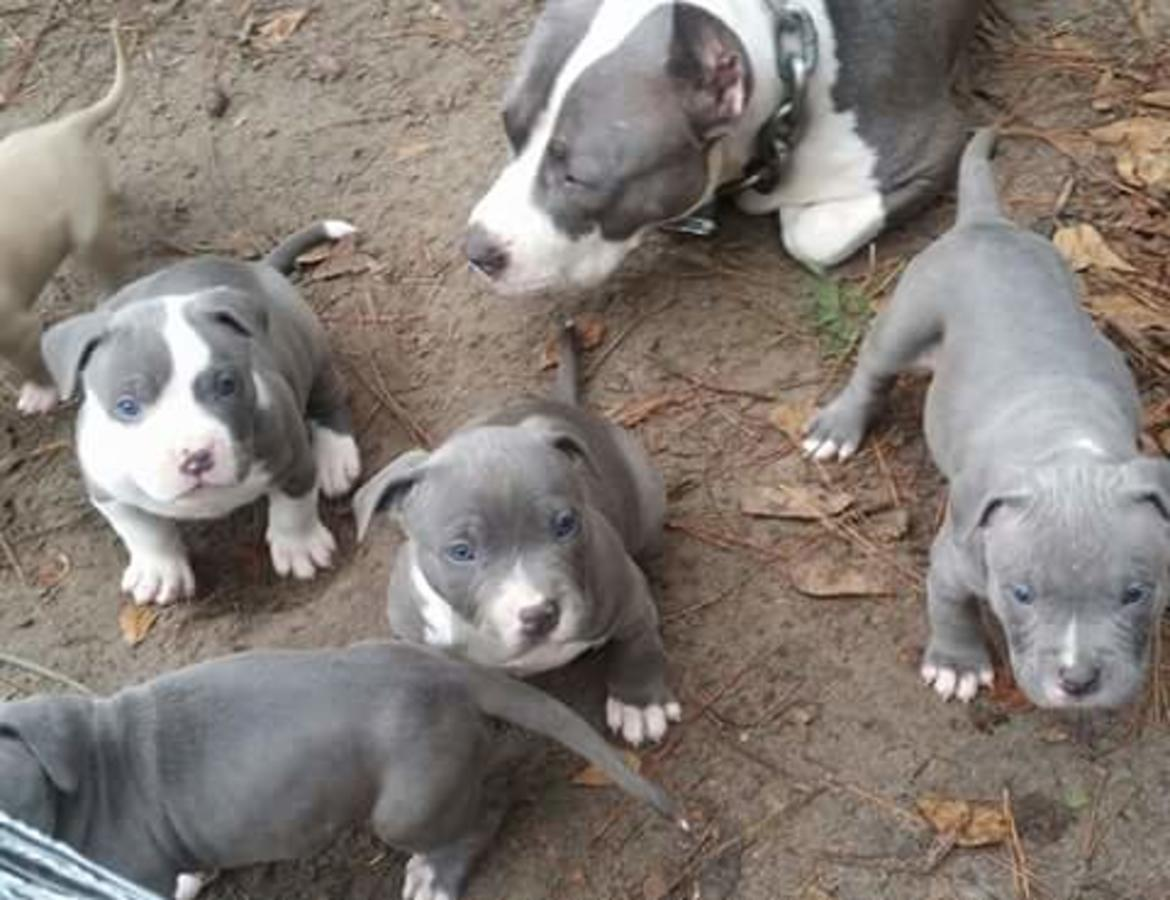am_pit_bull_terrier: (800, 122, 1170, 709), (1, 640, 693, 899), (457, 0, 987, 298), (348, 313, 683, 749), (36, 219, 361, 612), (0, 12, 125, 418)
